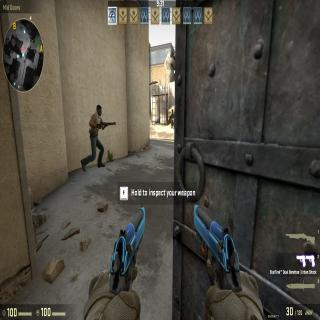T-Body: (88, 102, 106, 169)
T-Head: (94, 102, 102, 120)
